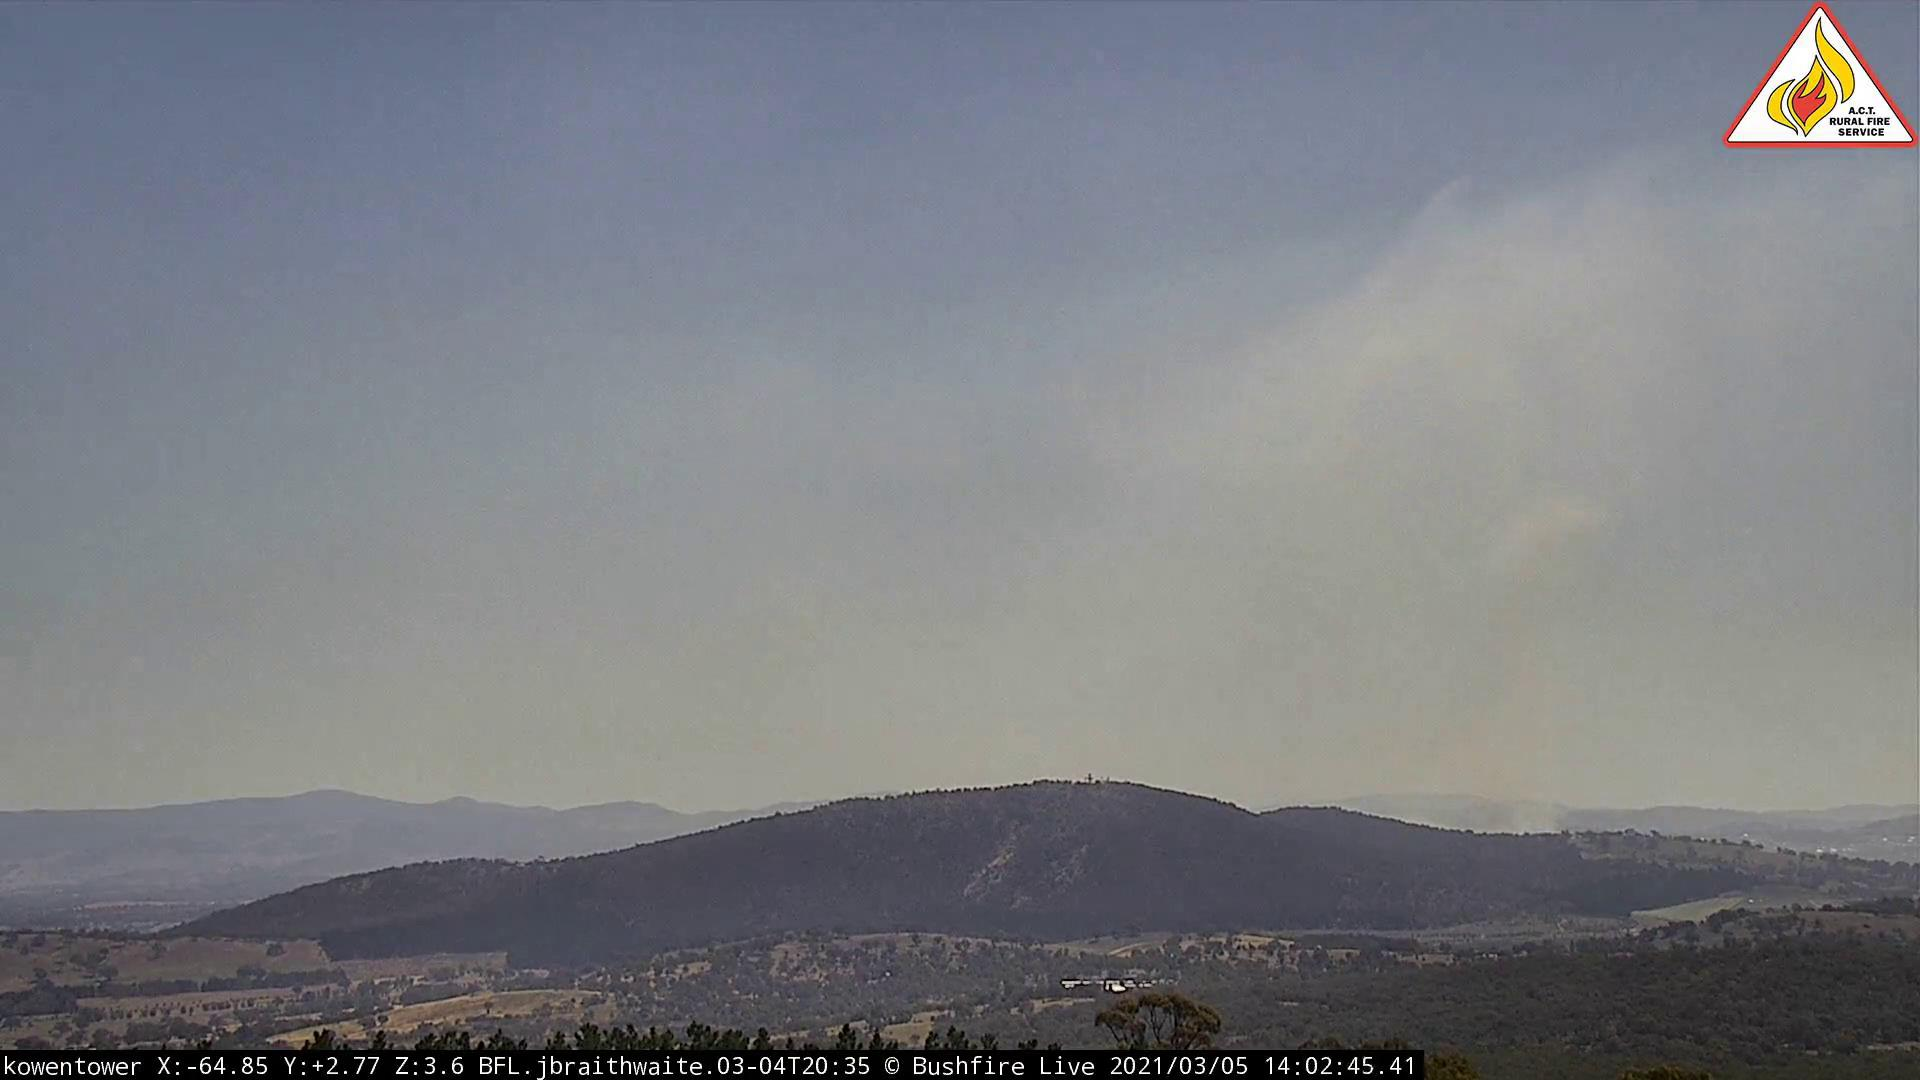Smoke: (1394, 443, 1625, 824)
